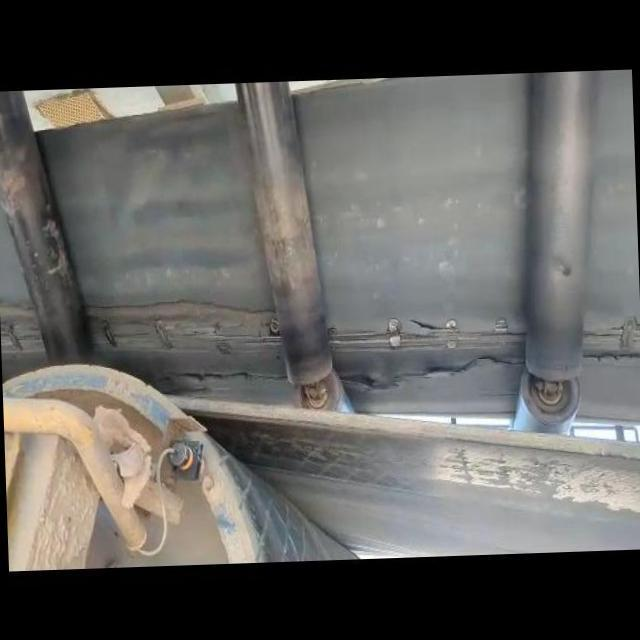Tear: (78, 294, 284, 356), (327, 298, 530, 356), (329, 353, 532, 396), (136, 366, 292, 391)
